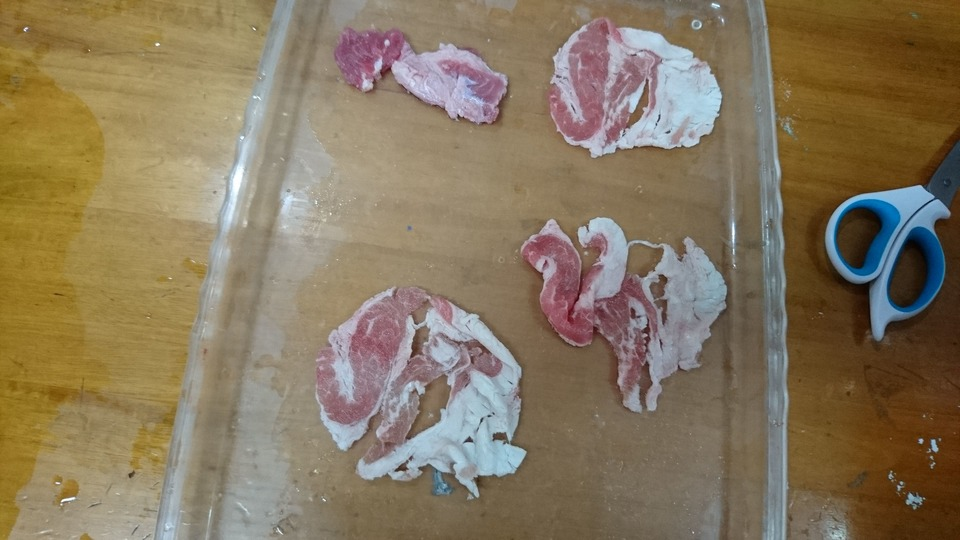restructured meat: (517, 203, 731, 419), (312, 288, 526, 504), (546, 14, 725, 157), (336, 24, 505, 127)
